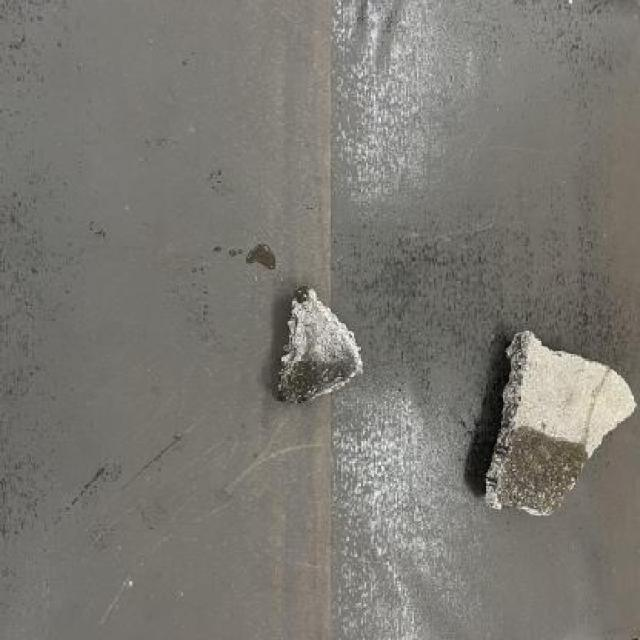Road Debris: (498, 428, 580, 520), (286, 356, 360, 394), (305, 319, 321, 361)
